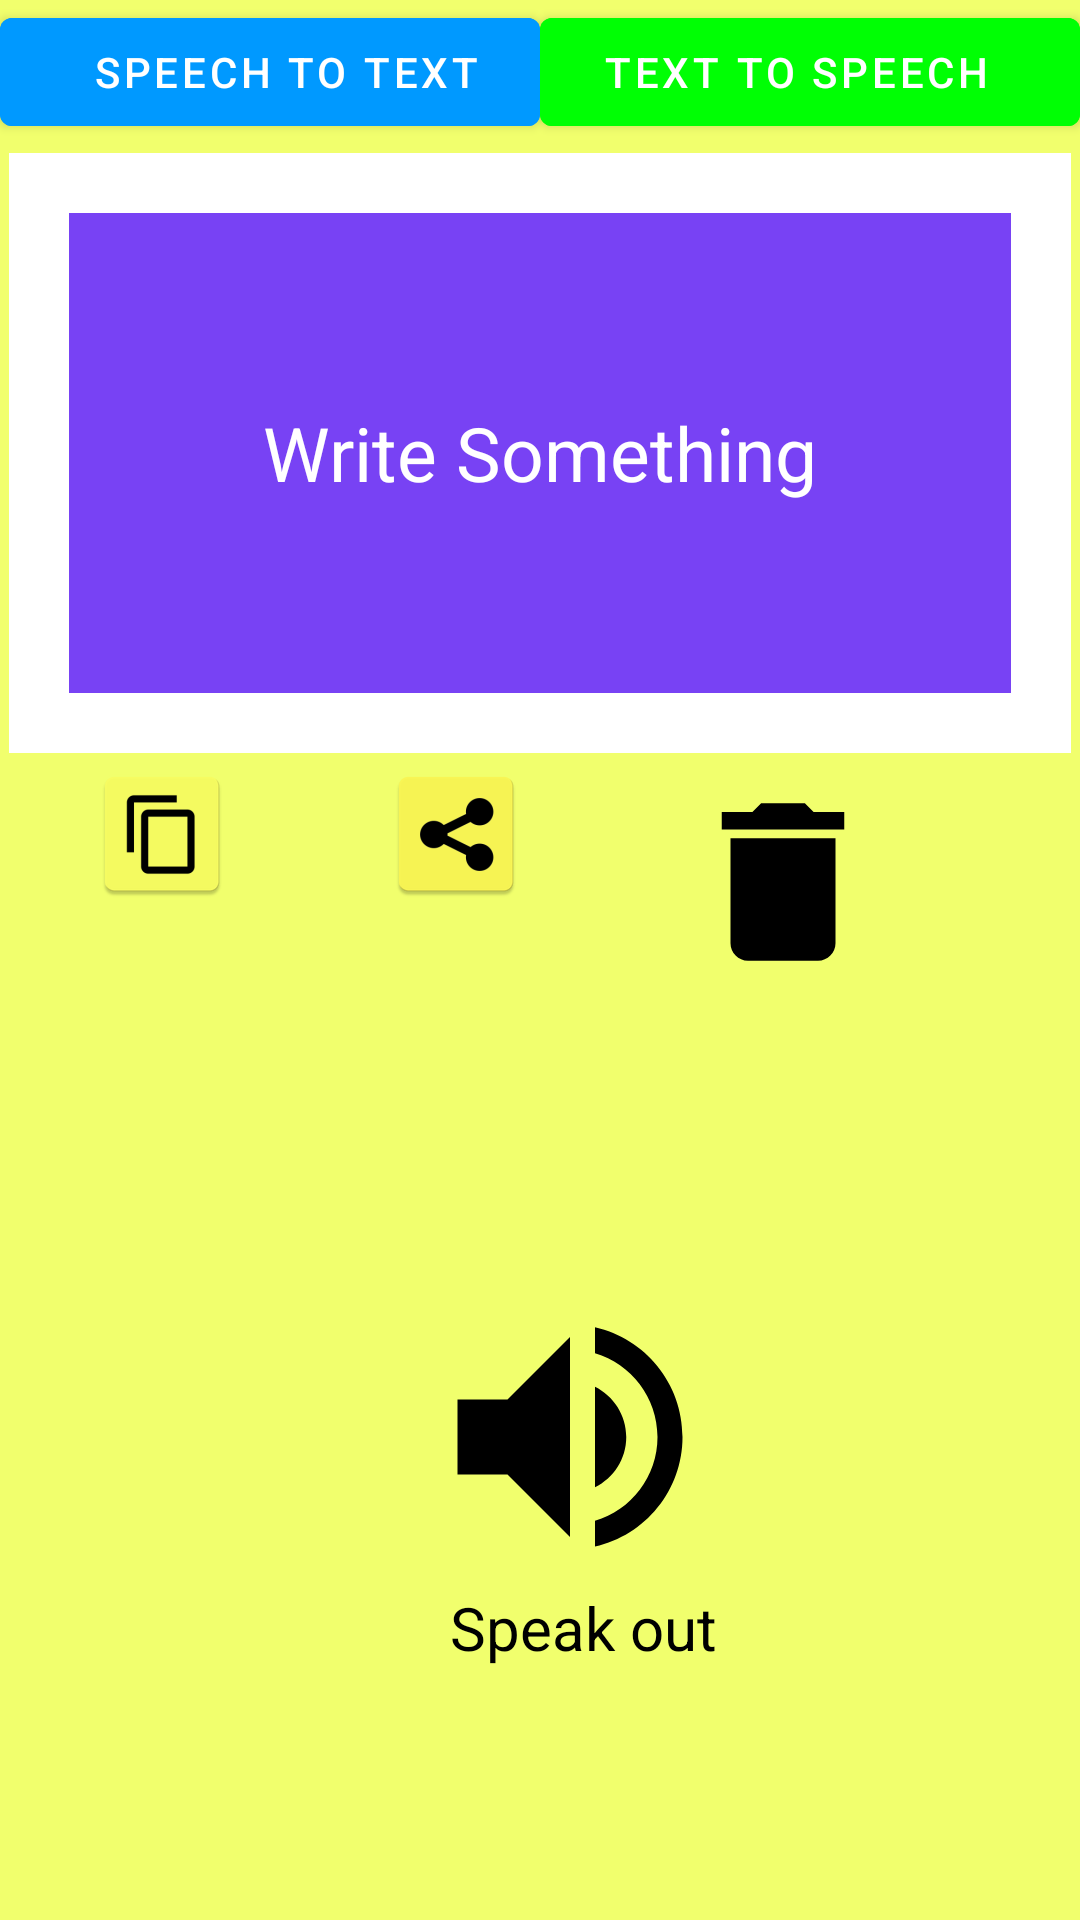

Icons on this 1080×1920 Android screen, each with the point to tap as (x,y):
delete: (783,882)
share: (456,836)
volume up: (570,1437)
